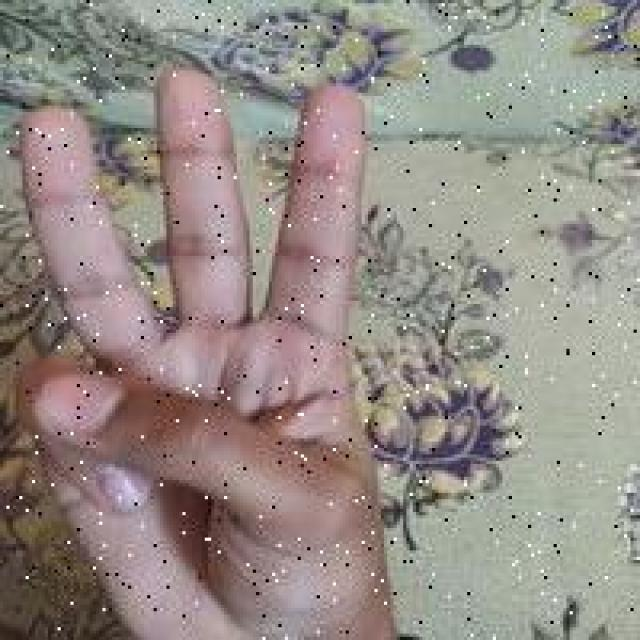W: (11, 54, 398, 640)
